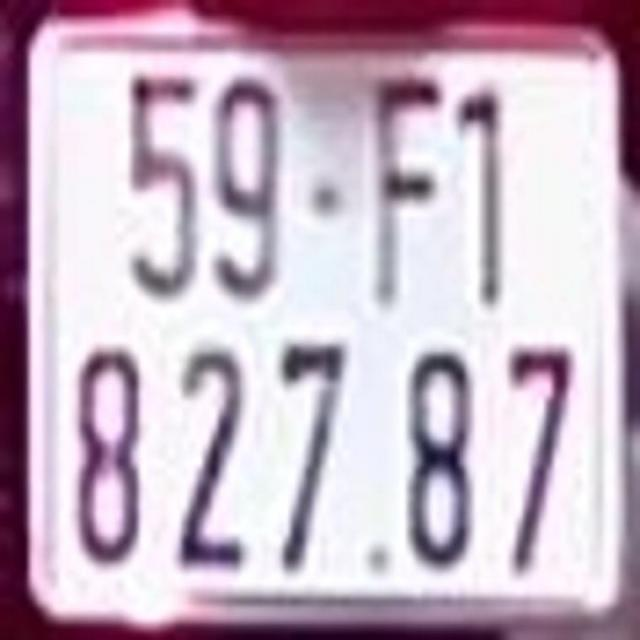1: (452, 59, 511, 308)
2: (176, 332, 252, 574)
5: (118, 55, 198, 300)
7: (506, 328, 577, 575), (278, 328, 349, 569)
8: (405, 335, 478, 572), (74, 332, 141, 564)
9: (206, 56, 283, 301)
F: (367, 67, 445, 300)
